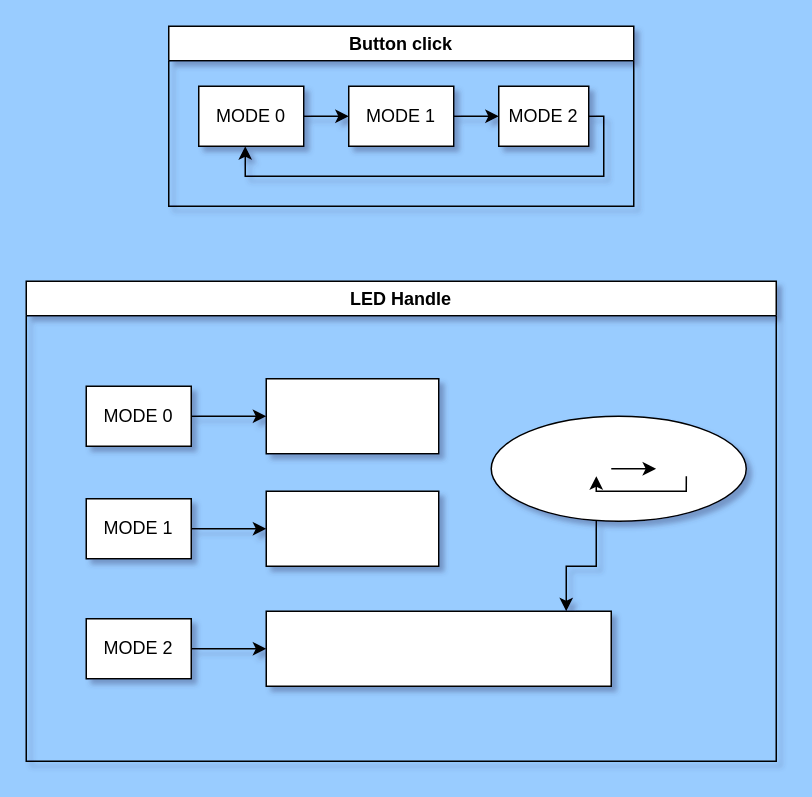
This 812x797 diagram has some shape labels left out. The centre of each missing label's shape, as x and y in pixels:
delta: 0 4000: point (618, 468)
Duty Cycle = 0%: point (352, 415)
Duty Cycle = 0.05 * abs[2000 - delta]%: point (438, 648)
Duty Cycle = 100%: point (352, 528)
